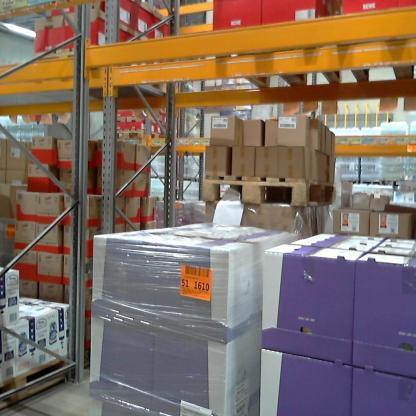pallet: (209, 19, 359, 102), (29, 45, 188, 101), (329, 6, 413, 86), (198, 168, 339, 211), (1, 352, 79, 407), (111, 126, 171, 145), (378, 179, 408, 188), (361, 178, 383, 188), (339, 178, 361, 187)
